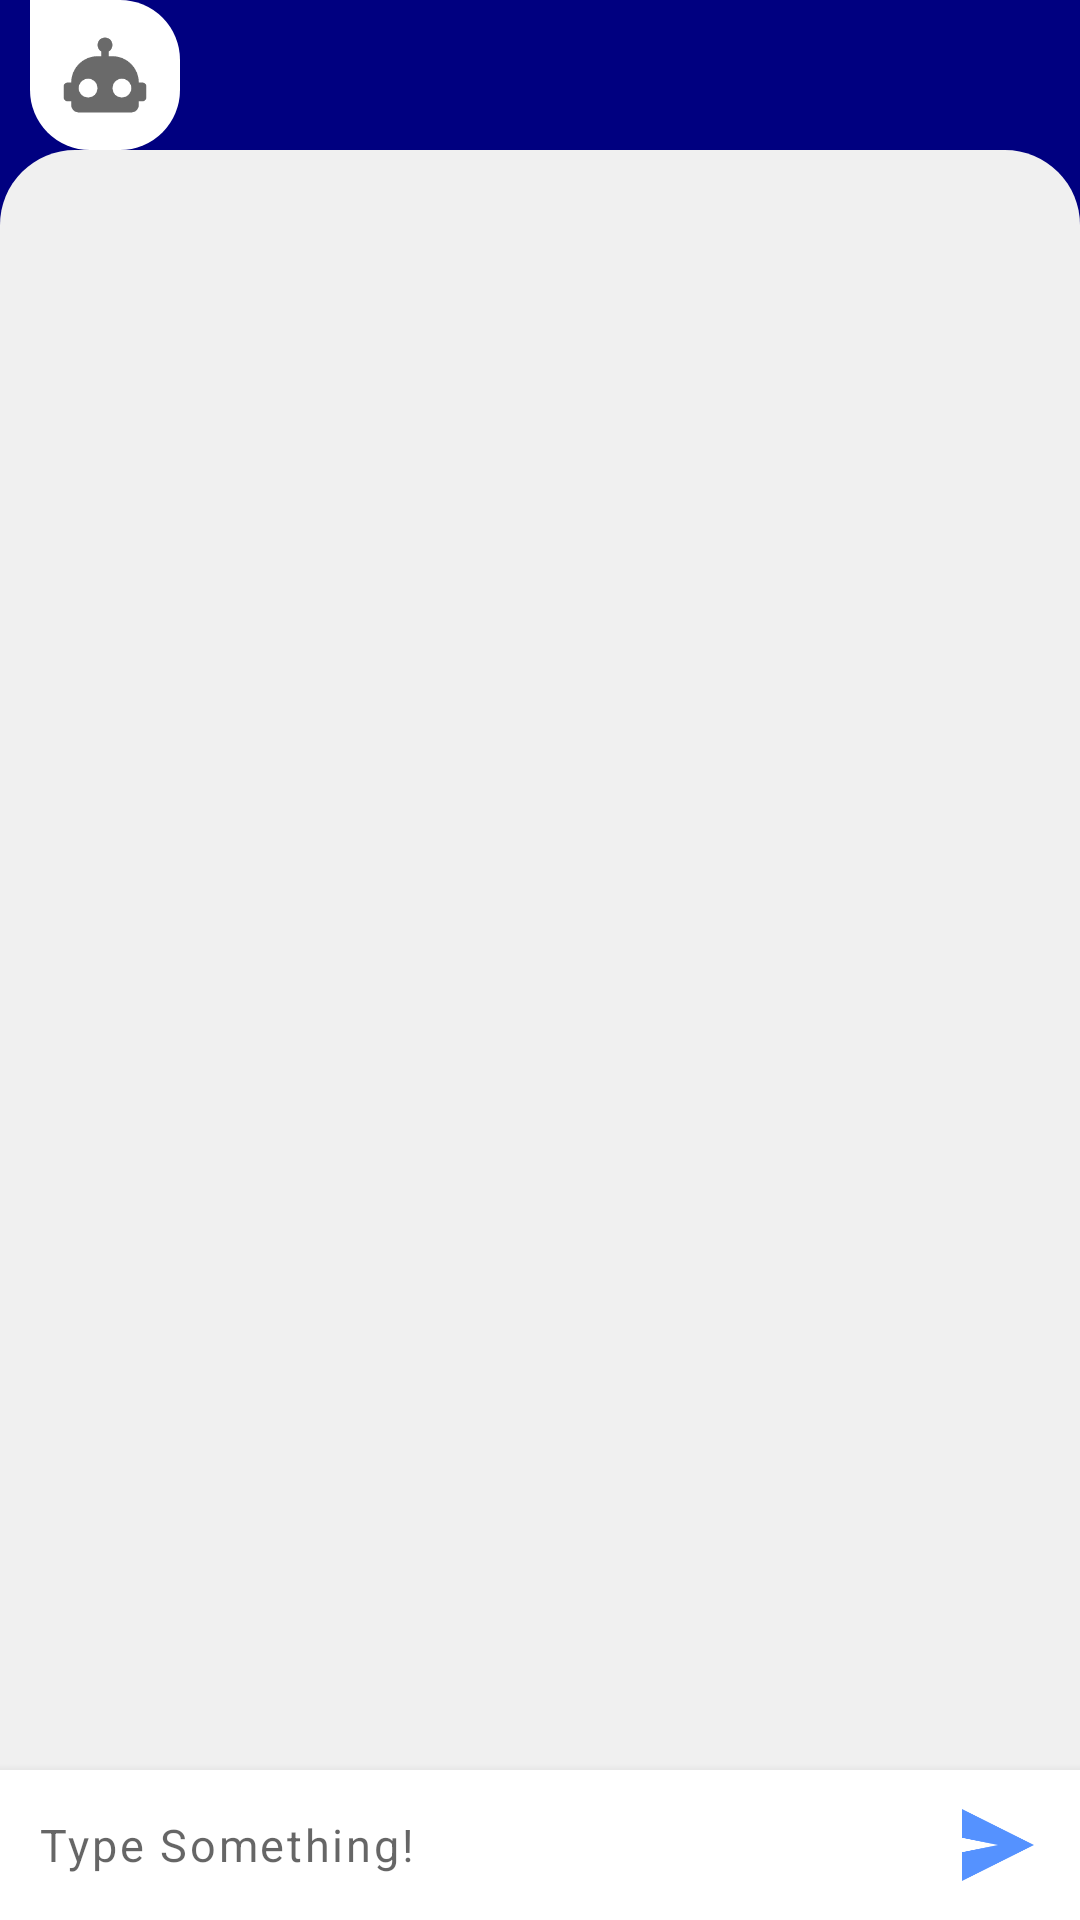

Icon bounding boxes for this 1080*1920 phone screenshot, format [x1, y1, x2, y2]:
bot: [30, 0, 180, 150]
send: [962, 1809, 1034, 1881]
